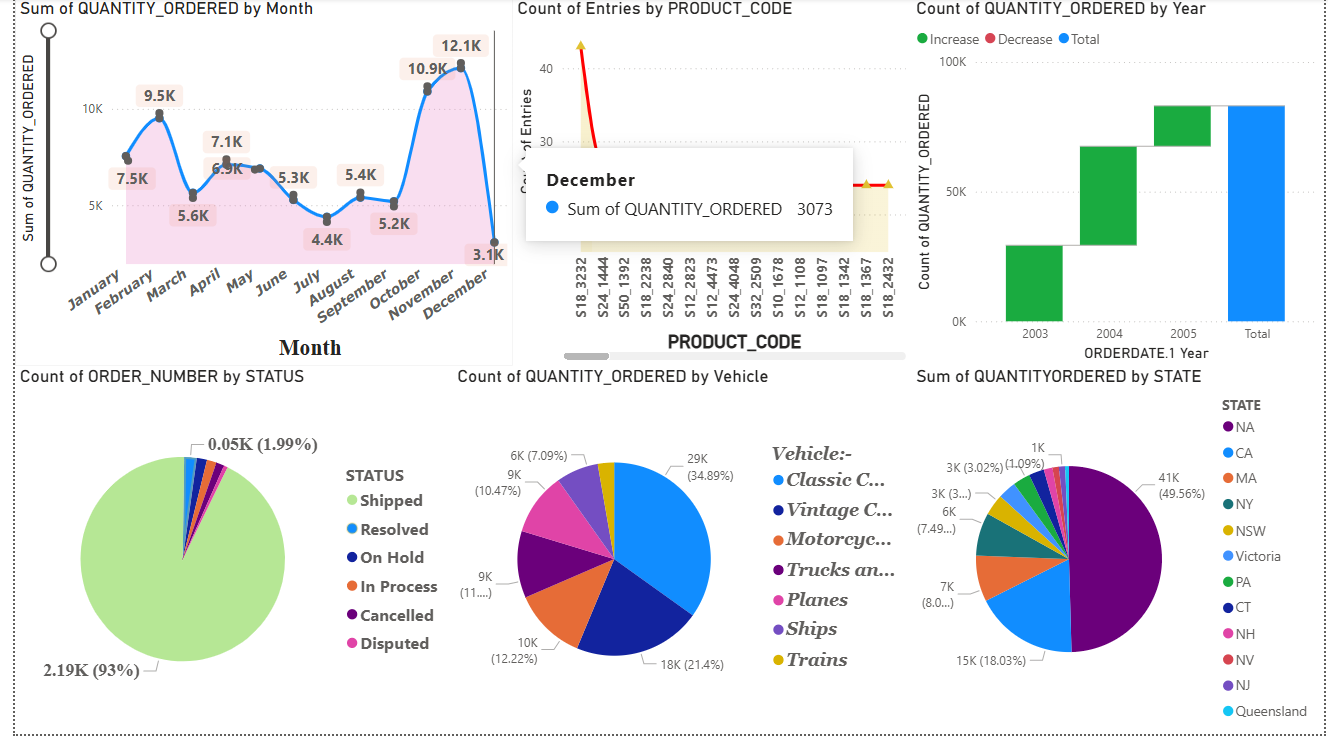

The dashboard page shown, as its layout file describes it:
{"tool":"powerbi","page":{"name":"Page 1","canvas":[1280,720],"ordinal":0},"visuals":[{"type":"lineChart","fields":{"Y":["Sum(Sales_Data1 (2).QUANTITYORDERED)"],"Category":["Sales_Data1 (2).ORDERDATE.1.Variation.Date Hierarchy.Month"]},"box":[0,0,486.7,359.5],"z":0},{"type":"lineChart","fields":{"Category":["Sales_Data1 (2).PRODUCTCODE"],"Y":["CountNonNull(Sales_Data1 (2).PRICEEACH)"]},"box":[486.7,0,390.1,359.5],"z":1000},{"type":"pieChart","fields":{"Category":["Sales_Data1 (2).STATUS"],"Y":["CountNonNull(Sales_Data1 (2).ORDERNUMBER)"]},"box":[0,360,427.5,360],"z":2000},{"type":"pieChart","fields":{"Category":["Sales_Data1 (2).PRODUCTLINE"],"Y":["Sum(Sales_Data1 (2).QUANTITYORDERED)"]},"box":[427.5,360,448.8,360],"z":3000},{"type":"pieChart","fields":{"Category":["Sales_Data1 (2).STATE"],"Y":["Sum(Sales_Data1 (2).QUANTITYORDERED)"]},"box":[877,360,402,360],"z":3001},{"type":"waterfallChart","fields":{"Category":["Sales_Data1 (2).ORDERDATE.1.Variation.Date Hierarchy.Year"],"Y":["Sum(Sales_Data1 (2).QUANTITYORDERED)"]},"box":[877,0,402,360],"z":3002}]}

Visuals, with their boxes in screenshot pixels (x1, y1, x2, y2), scaled from the page's 1280x720 canvas onto the 1328x739 screenshot:
lineChart - Sum(Sales_Data1 (2).QUANTITYORDERED) x Sales_Data1 (2).ORDERDATE.1.Variation.Date Hierarchy.Month: BBox(0, 0, 505, 369)
lineChart - Sales_Data1 (2).PRODUCTCODE x CountNonNull(Sales_Data1 (2).PRICEEACH): BBox(505, 0, 910, 369)
pieChart - Sales_Data1 (2).STATUS x CountNonNull(Sales_Data1 (2).ORDERNUMBER): BBox(0, 369, 444, 738)
pieChart - Sales_Data1 (2).PRODUCTLINE x Sum(Sales_Data1 (2).QUANTITYORDERED): BBox(444, 369, 909, 738)
pieChart - Sales_Data1 (2).STATE x Sum(Sales_Data1 (2).QUANTITYORDERED): BBox(910, 369, 1327, 738)
waterfallChart - Sales_Data1 (2).ORDERDATE.1.Variation.Date Hierarchy.Year x Sum(Sales_Data1 (2).QUANTITYORDERED): BBox(910, 0, 1327, 369)
